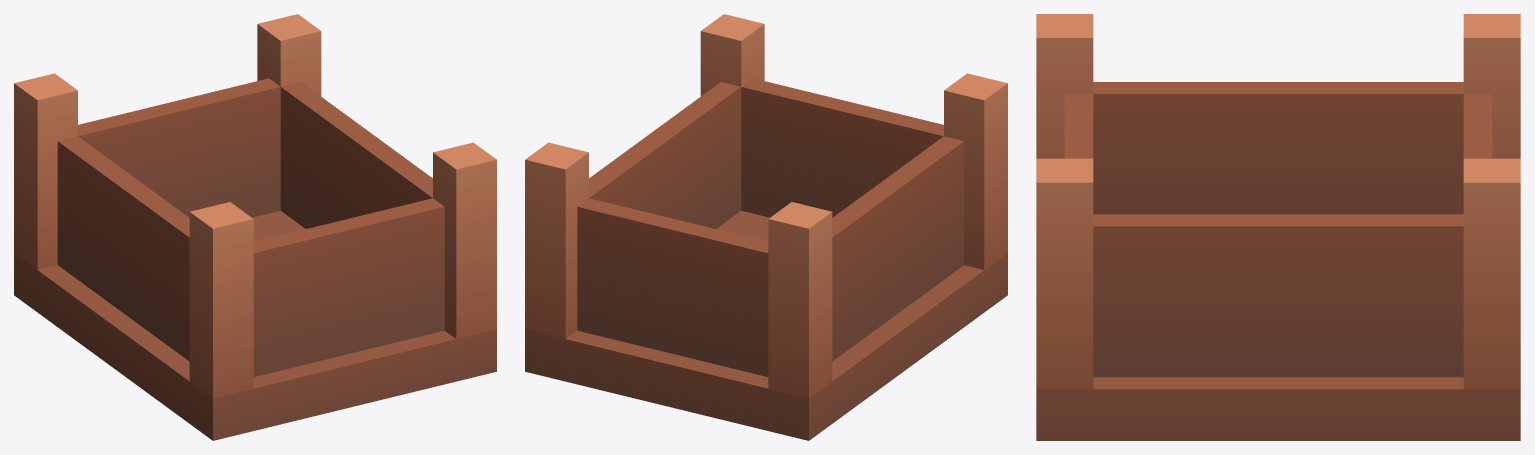
File: k-pirate-crate.glb
3 renders of one model, left to right at view 1: azimuth 30°, elevation 25°; view 2: azimuth 150°, elevation 25°; view 3: azimuth 270°, elevation 25°, orthographic. The views are drawn at different scales.
Parts seen in each view (by area): view 1: crate; view 2: crate; view 3: crate.
Boxes of the visible parts, box(x1,y1,x2,y2) form: crate: box(14, 14, 496, 440); crate: box(525, 14, 1007, 440); crate: box(1036, 14, 1520, 440).
Bounding box in the file's own units: 1.08 × 0.77 × 1.31.
1 material, 1 textured.
